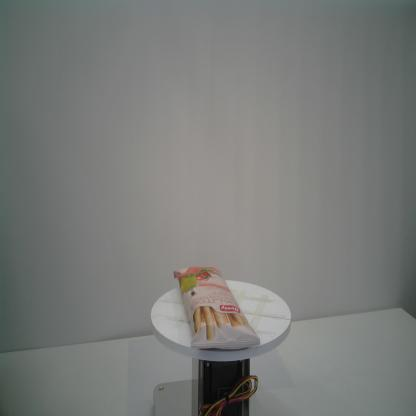Dessert: (172, 262, 262, 351)
